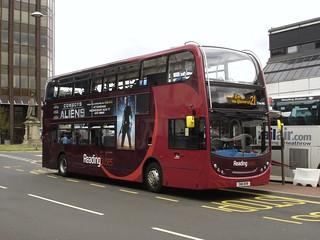bus: (39, 38, 298, 200)
